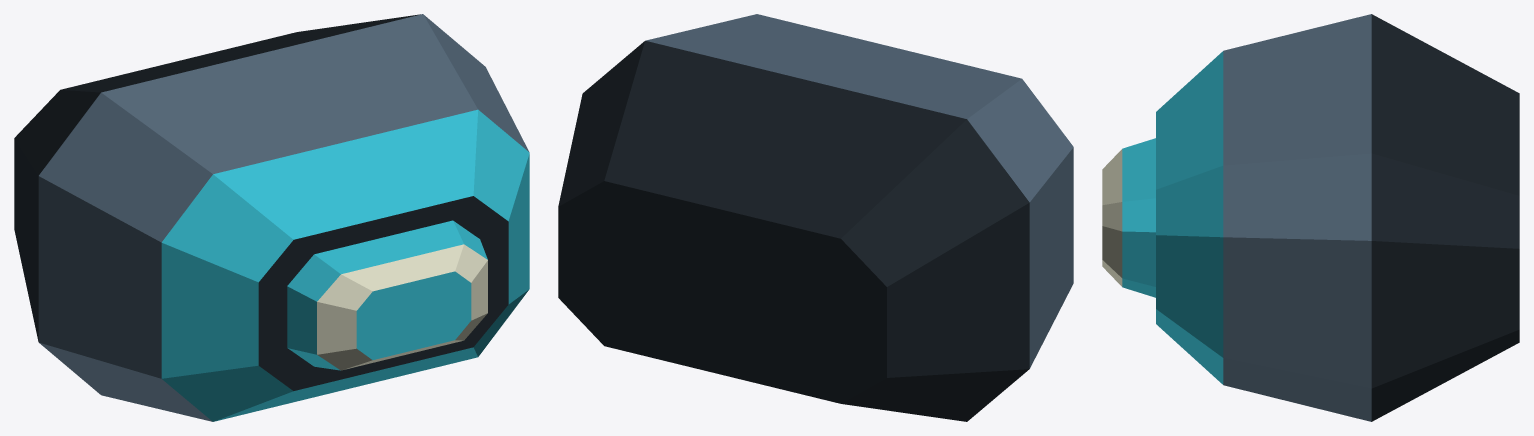
The model's file is RearBoostPanel.obj.
3 renders of one model, left to right at view 1: azimuth 30°, elevation 25°; view 2: azimuth 150°, elevation 25°; view 3: azimuth 270°, elevation 25°, orthographic. The views are drawn at different scales.
Visible parts, largest first — view 1: shell, lock_plate; view 2: shell; view 3: shell, lock_plate.
Part boxes in pixels (x1,y1,x2,y2): shell: [14, 14, 529, 421]; lock_plate: [287, 220, 487, 370]; shell: [558, 14, 1073, 421]; shell: [1156, 14, 1519, 421]; lock_plate: [1102, 138, 1155, 297].
Bounding box in the file's own units: 0.68 × 0.44 × 0.62.
